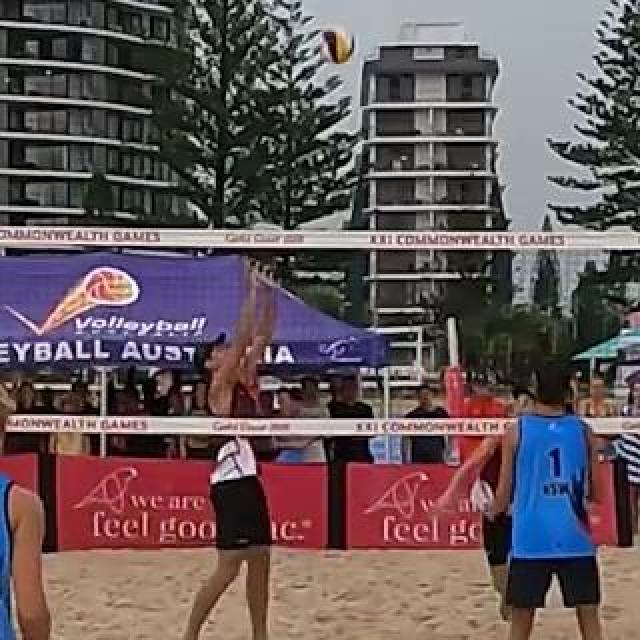volleyball: (323, 30, 357, 64)
